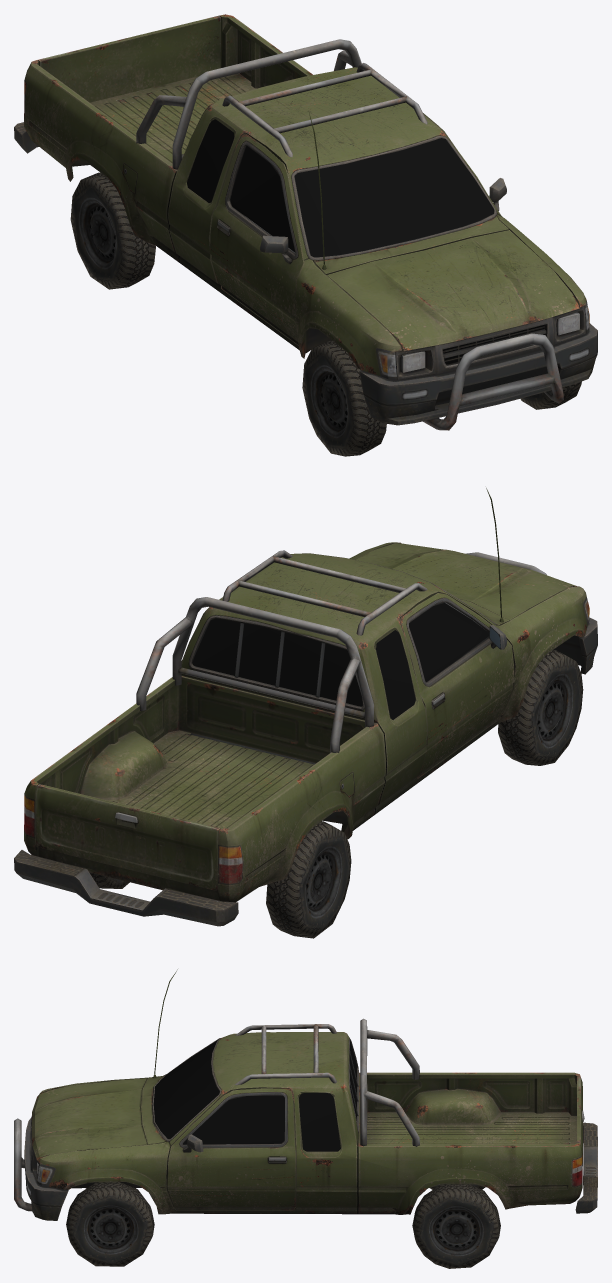
Rendered from pickup_truck.glb.
3 renders of one model, top to bottom at view 1: azimuth 30°, elevation 25°; view 2: azimuth 150°, elevation 25°; view 3: azimuth 270°, elevation 25°, orthographic. The views are drawn at different scales.
Visible parts, largest first — view 1: pickup body; view 2: pickup body; view 3: pickup body.
Part boxes in pixels (bbox=[...]): pickup body: bbox=[14, 14, 597, 456]; pickup body: bbox=[14, 488, 597, 938]; pickup body: bbox=[14, 969, 597, 1268].
Bounding box in the file's own units: 2.18 × 2.61 × 6.01.
2 materials, 1 textured.
